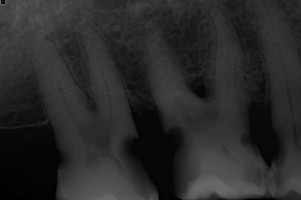Endo-Periodontal Lesion: (190, 77, 214, 98)
